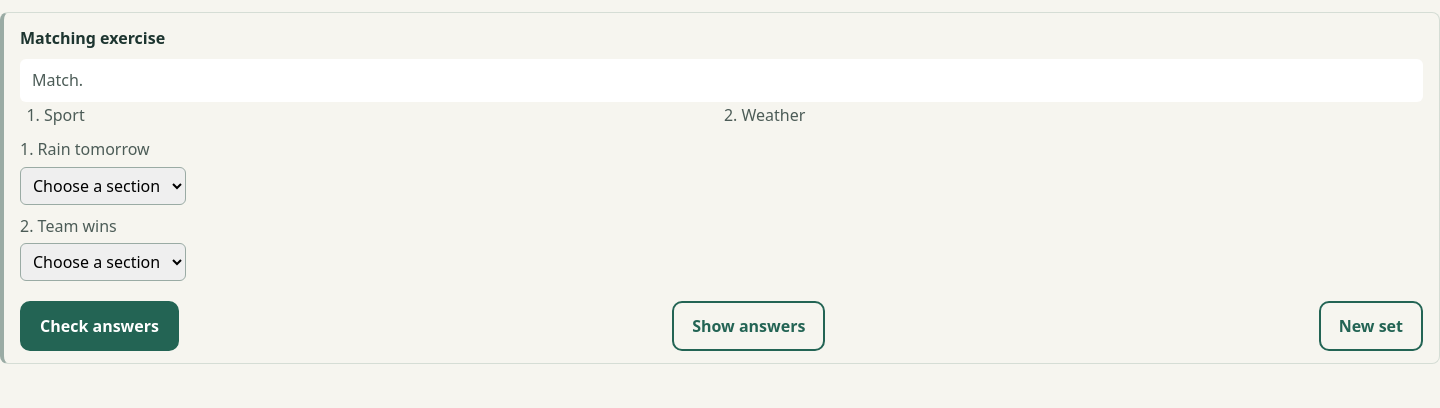
Test: matching panel › checks each choice against its section
The image size is (1440, 408).
Select "2. Weather" in the dropdown labelled "1. Rain tomorrow". click: (103, 186)
box: [20,167,186,205]
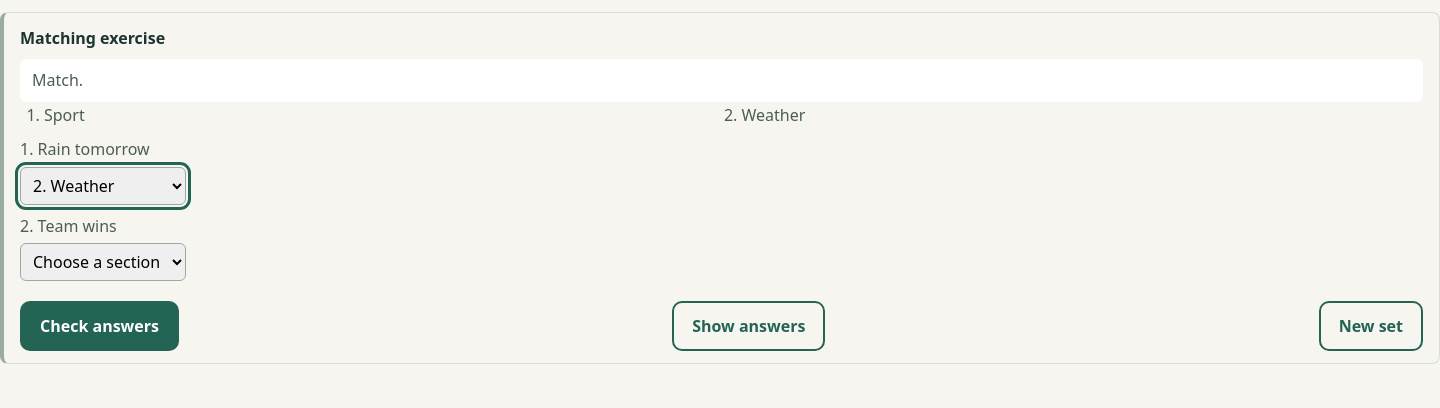
Select "2. Weather" in the dropdown labelled "2. Team wins". click: (103, 262)
box: [20,243,186,281]
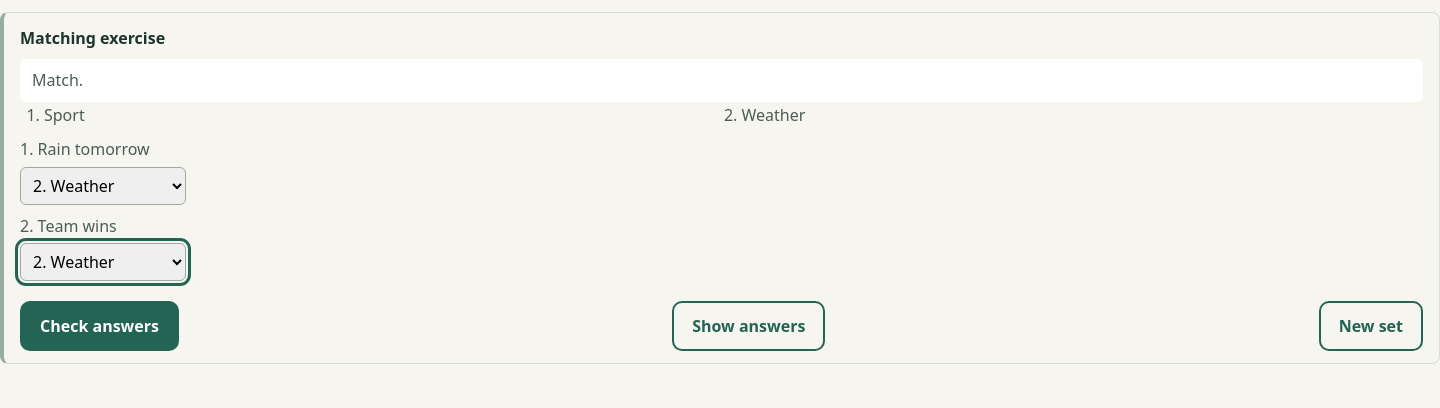
Click the button "Check answers". click: (100, 326)
box: [20,301,179,351]
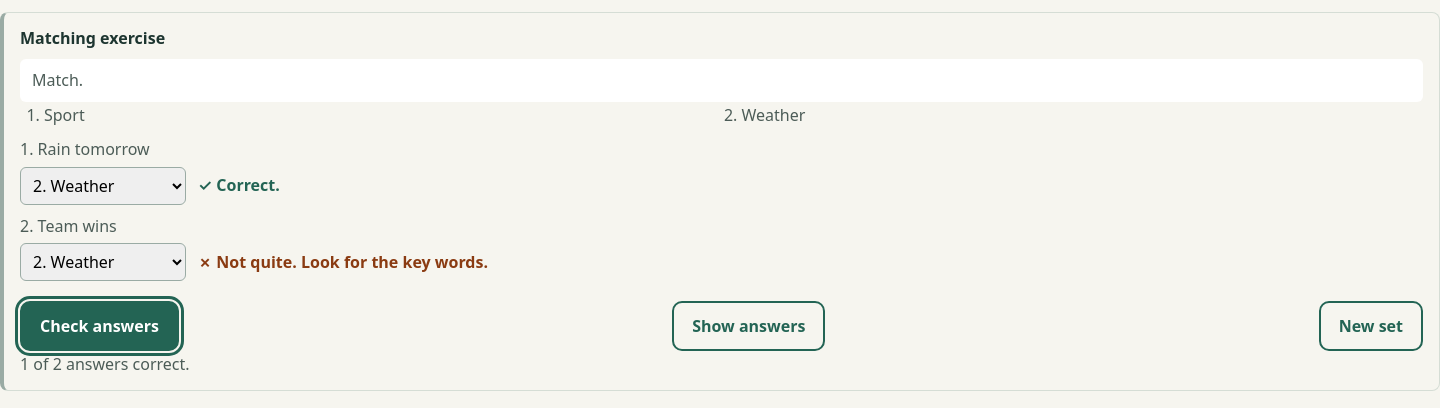
Now the message reads "1 of 2 answers correct.", box [20,353,190,375]
Now the text "Correct." is shown, box [216,174,280,196]
Now the text "✗ Not quite. Look for the key words." is shown, box [198,249,488,275]
